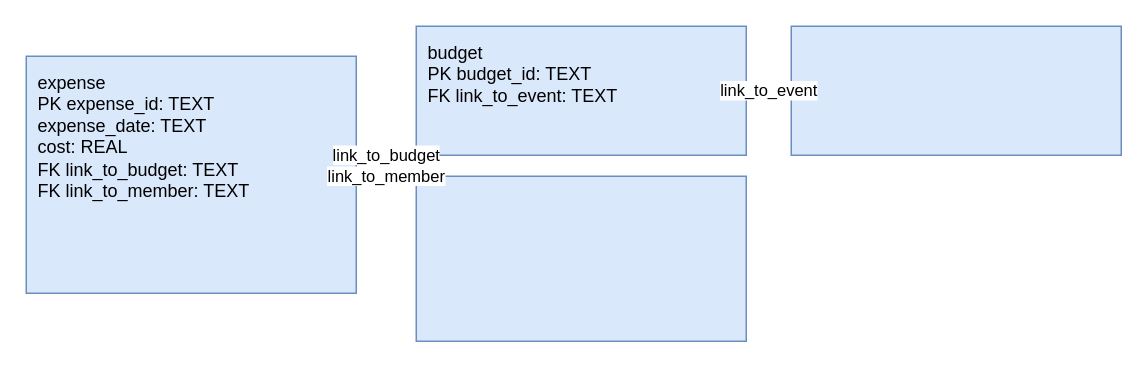
The diagram is 1148 pixels wide and 368 high, and some of its shapes have lost their labels. The shapes that lost their labels are listed below. From the top down, each one's centre as x and y in pixels, then its label:
the point at 955,90: event PK event_id: TEXT event_name: TEXT
the point at 580,258: member PK member_id: TEXT first_name: TEXT last_name: TEXT
